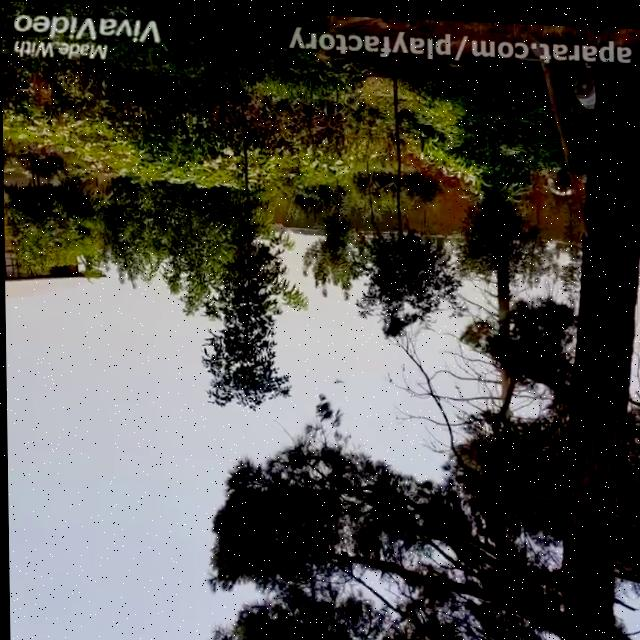drone: (329, 371, 345, 386)
